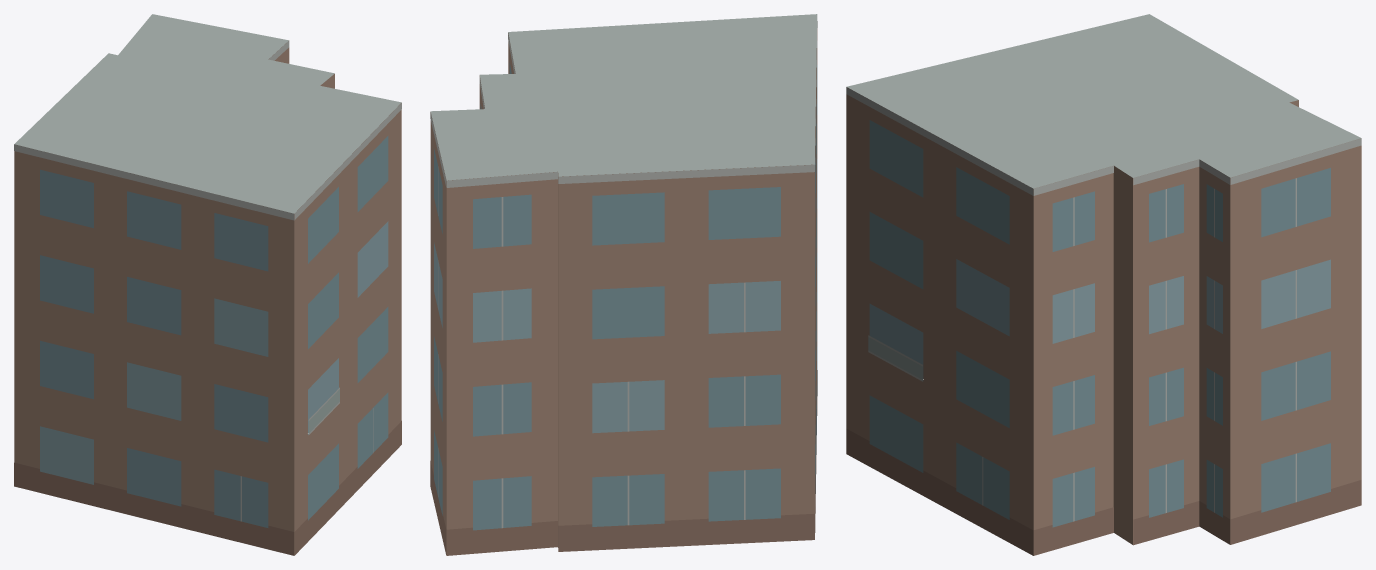
The model's file is survey-upis-32601445.glb.
3 renders of one model, left to right at view 1: azimuth 30°, elevation 25°; view 2: azimuth 150°, elevation 25°; view 3: azimuth 270°, elevation 25°, orthographic. The views are drawn at different scales.
Visible parts, largest first — view 1: survey-upis-32601445.tmp; view 2: survey-upis-32601445.tmp; view 3: survey-upis-32601445.tmp.
Part boxes in pixels (left/top/right/bottom): survey-upis-32601445.tmp: left=14, top=14, right=401, bottom=555; survey-upis-32601445.tmp: left=430, top=14, right=817, bottom=555; survey-upis-32601445.tmp: left=846, top=14, right=1361, bottom=555.
Bounding box in the file's own units: 12.45 × 12.2 × 15.52.
